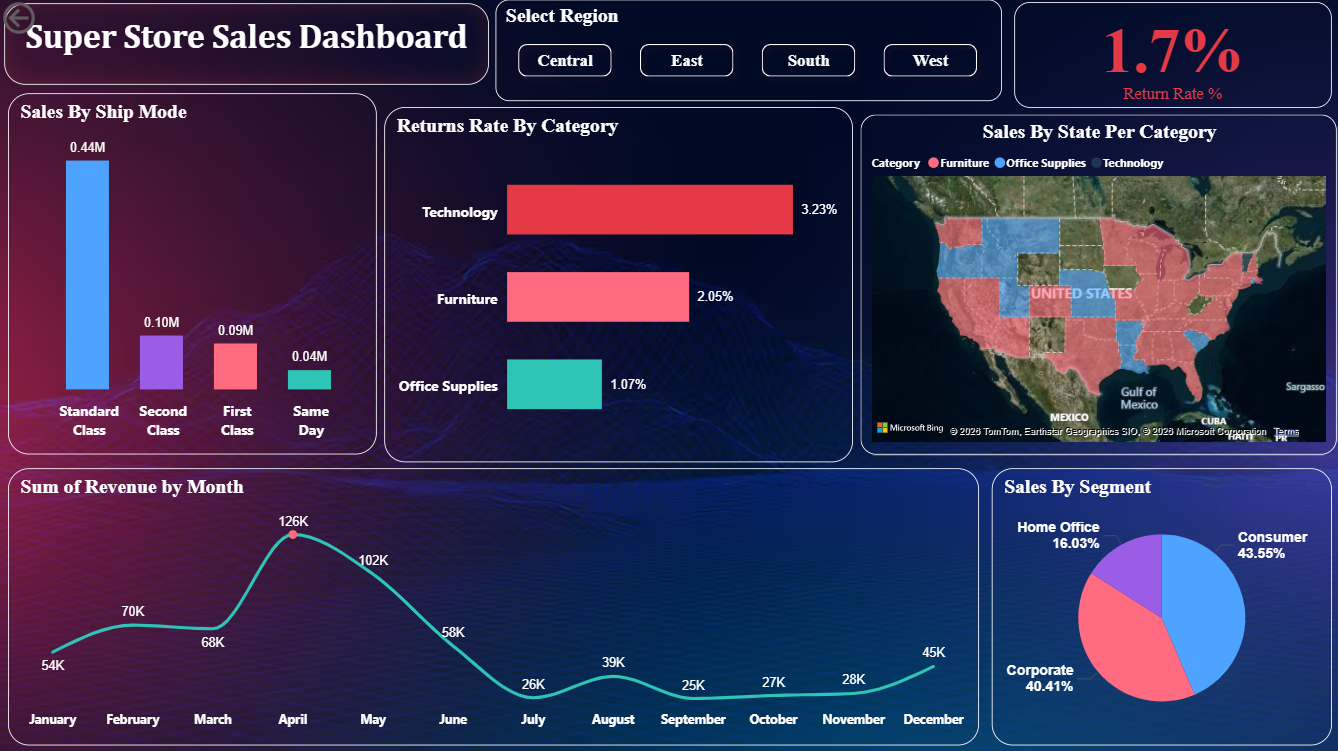

The dashboard page shown, as its layout file describes it:
{"tool":"powerbi","page":{"name":"Page 2","canvas":[1280,720],"ordinal":1},"visuals":[{"type":"textbox","box":[6,6,461.9,77.4],"z":0},{"type":"lineChart","fields":{"Category":["SuperStore_Sales_Dataset.Order Date.Variation.Date Hierarchy.Month"],"Y":["Sum(SuperStore_Sales_Dataset.Revenue)"]},"box":[9.5,448.8,925,264.3],"z":1000},{"type":"clusteredColumnChart","title":"Sales By Ship Mode","fields":{"Category":["SuperStore_Sales_Dataset.Ship Mode"],"Y":["Sum(SuperStore_Sales_Dataset.Revenue)"]},"box":[9.5,91.7,351.2,344],"z":2000},{"type":"pieChart","title":"Sales By Segment","fields":{"Category":["SuperStore_Sales_Dataset.Segment"],"Y":["Sum(SuperStore_Sales_Dataset.Revenue)"]},"box":[946.4,448.8,323.8,264.3],"z":3000},{"type":"advancedSlicerVisual","title":"Select Region","fields":{"Values":["SuperStore_Sales_Dataset.Region"]},"box":[473.8,2.4,482.1,96.4],"z":4000},{"type":"filledMap","title":"Sales By State Per Category","fields":{"Category":["SuperStore_Sales_Dataset.State"],"Series":["SuperStore_Sales_Dataset.Category"]},"box":[821.4,111.9,453.6,323.8],"z":5000},{"type":"card","fields":{"Values":["SuperStore_Sales_Dataset.Return Rate %"]},"box":[967.9,4.8,302.4,101.2],"z":6000},{"type":"barChart","title":"Returns Rate By Category","fields":{"Category":["SuperStore_Sales_Dataset.Category"],"Y":["SuperStore_Sales_Dataset.Return Rate %"]},"box":[367.9,104.8,446,338.1],"z":7000},{"type":"actionButton","box":[0,0,100,40],"z":8000}]}

Visuals, with their boxes in screenshot pixels (x1, y1, x2, y2), scaled from the page's 1280x720 canvas onto the 1338x751 screenshot:
textbox: crop(6, 6, 489, 87)
lineChart - SuperStore_Sales_Dataset.Order Date.Variation.Date Hierarchy.Month x Sum(SuperStore_Sales_Dataset.Revenue): crop(10, 468, 977, 744)
"Sales By Ship Mode" clusteredColumnChart: crop(10, 96, 377, 454)
"Sales By Segment" pieChart: crop(989, 468, 1328, 744)
"Select Region" advancedSlicerVisual: crop(495, 3, 999, 103)
"Sales By State Per Category" filledMap: crop(859, 117, 1333, 454)
card - SuperStore_Sales_Dataset.Return Rate %: crop(1012, 5, 1328, 111)
"Returns Rate By Category" barChart: crop(385, 109, 851, 462)
actionButton: crop(0, 0, 105, 42)
